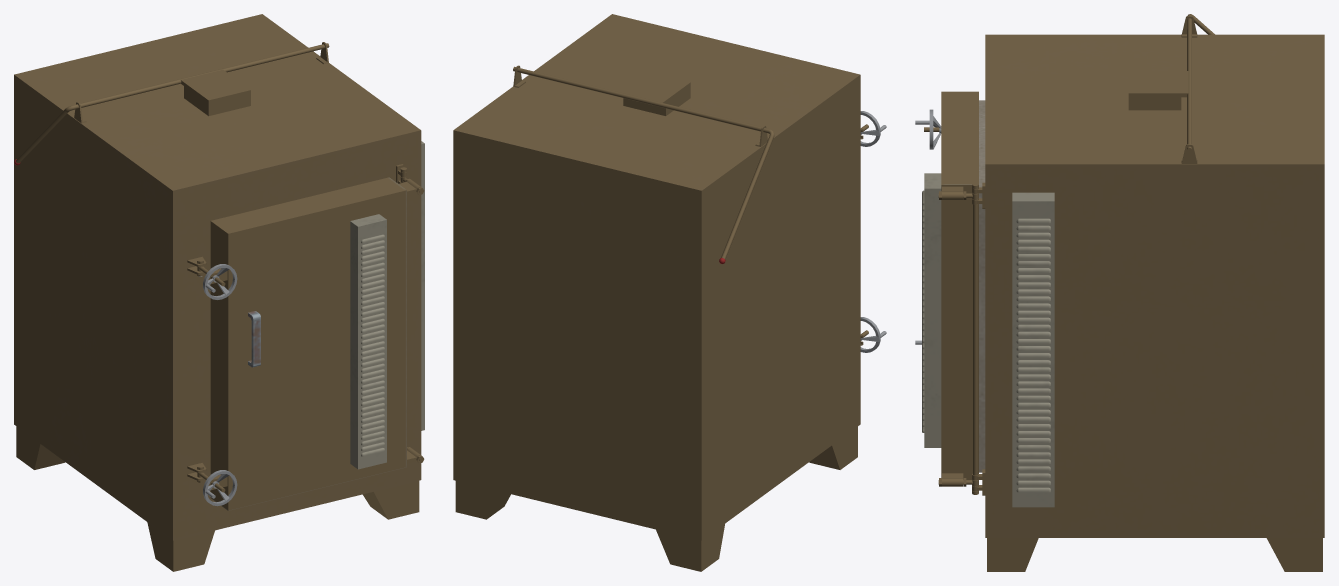
Rendered from YaoLu.fbx.
The picture shows the model from 3 angles, left to right: view 1: azimuth 30°, elevation 25°; view 2: azimuth 150°, elevation 25°; view 3: azimuth 270°, elevation 25°; orthographic projection. The views are drawn at different scales.
Parts seen in each view (by area): view 1: YaoLu_ZhuTi, YaoLu_LaMen, YaoLu_TongQiKong, YaoLU_XuanZhuanKaiGuan (×2); view 2: YaoLu_ZhuTi, YaoLu_TongQiKong; view 3: YaoLu_ZhuTi, YaoLu_LaMen, YaoLu_TongQiKong.
Part boxes in pixels (bbox=[...]): YaoLu_ZhuTi: bbox=[14, 14, 424, 571]; YaoLu_LaMen: bbox=[210, 177, 424, 510]; YaoLu_TongQiKong: bbox=[14, 43, 329, 165]; YaoLU_XuanZhuanKaiGuan (×2): bbox=[203, 264, 237, 506]; YaoLu_ZhuTi: bbox=[453, 14, 860, 571]; YaoLu_TongQiKong: bbox=[513, 66, 774, 263]; YaoLu_ZhuTi: bbox=[972, 16, 1324, 571]; YaoLu_LaMen: bbox=[922, 91, 978, 486]; YaoLu_TongQiKong: bbox=[1128, 14, 1214, 152].
Bounding box in the file's own units: 96.07 × 132 × 114.
1 material, 1 textured.
